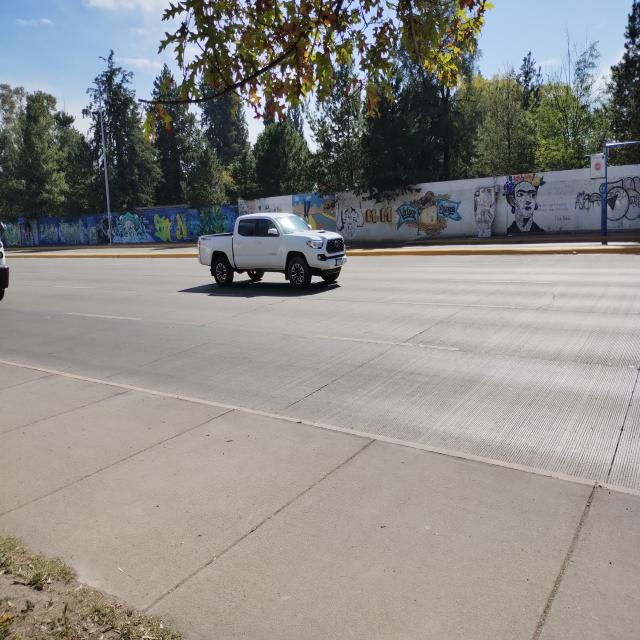Auto: (197, 211, 348, 288)
